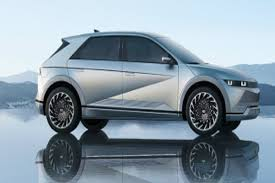Honda Ioniq: (33, 20, 266, 153)
